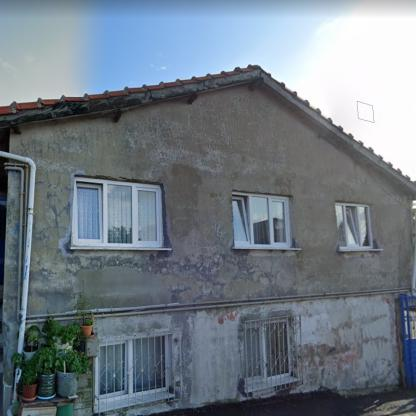window: (76, 181, 162, 245), (97, 335, 167, 398), (231, 195, 289, 246), (245, 319, 290, 381), (337, 205, 372, 247)
